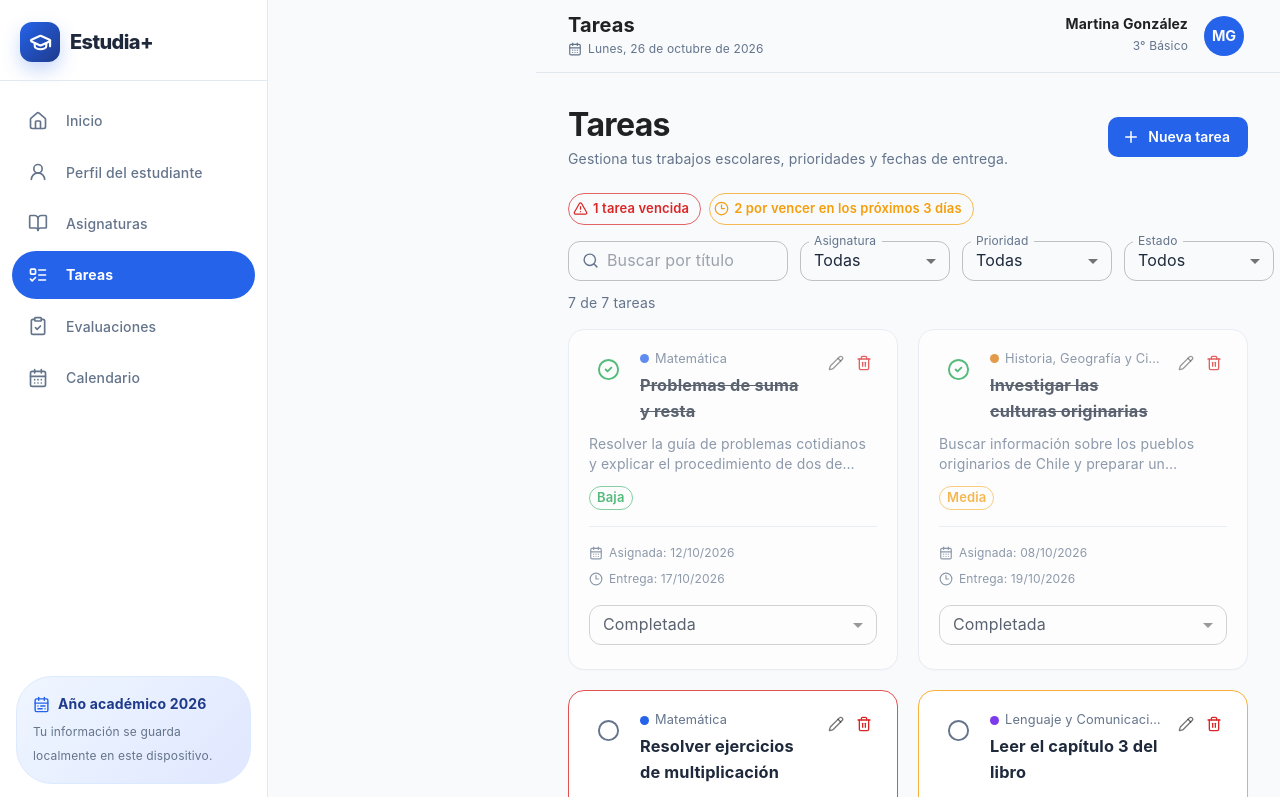
Scenario: gestión de tareas › permite marcar una tarea como completada y editarla
This screenshot has width=1280, height=797.
Click the button named "Marcar Leer el capítulo 3 del libro como completada" at (958, 730), box [939,711,978,750]
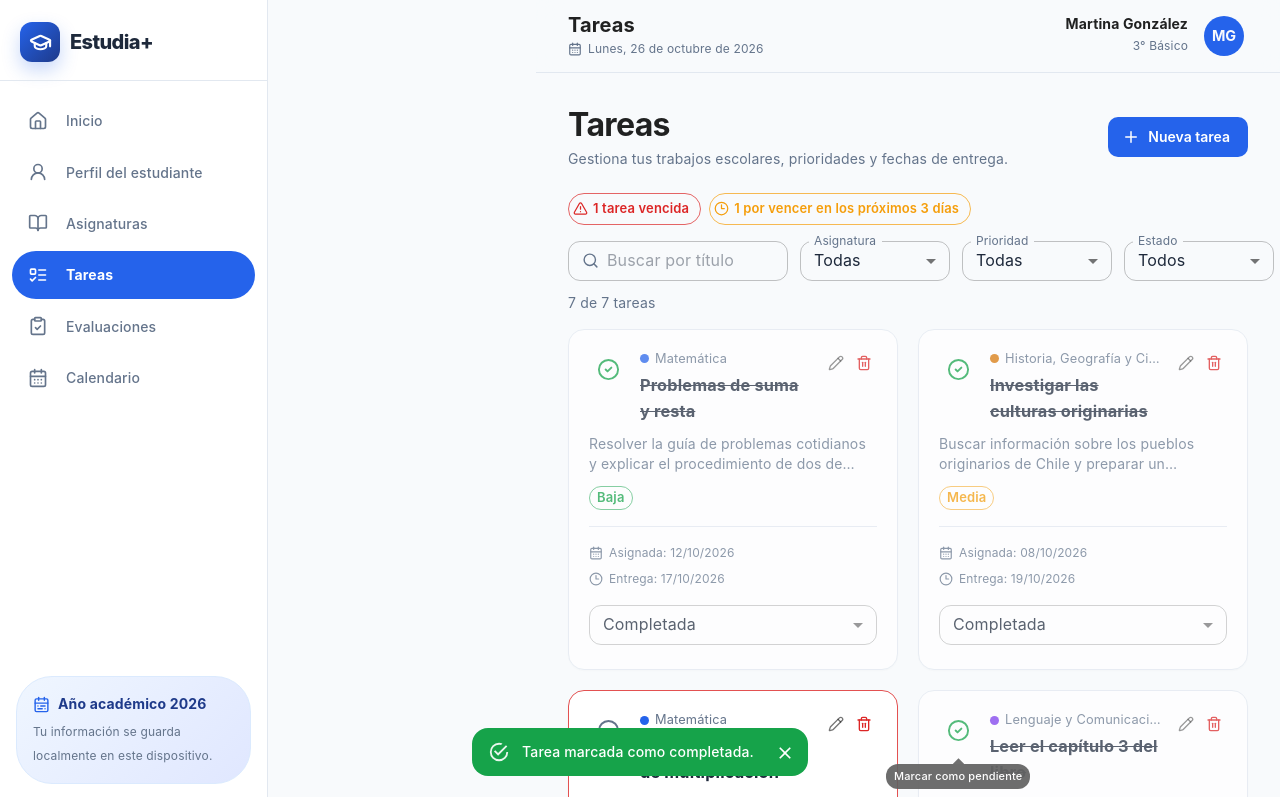
Click the button named "Editar Leer el capítulo 3 del libro" at (1186, 724), box [1173,711,1199,737]
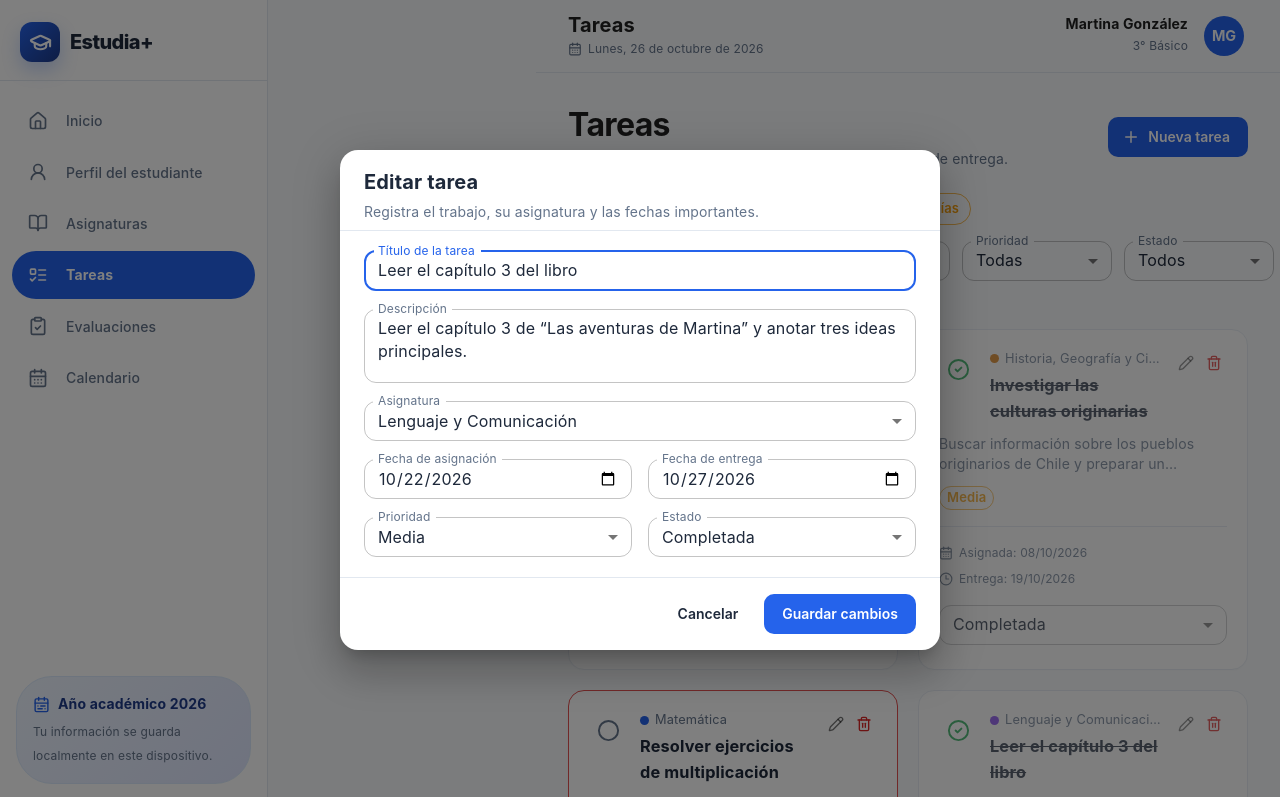
Replace the text in the field labelled "Título de la tarea" with "Leer el capítulo final del libro" at (640, 271), box [364,251,916,291]
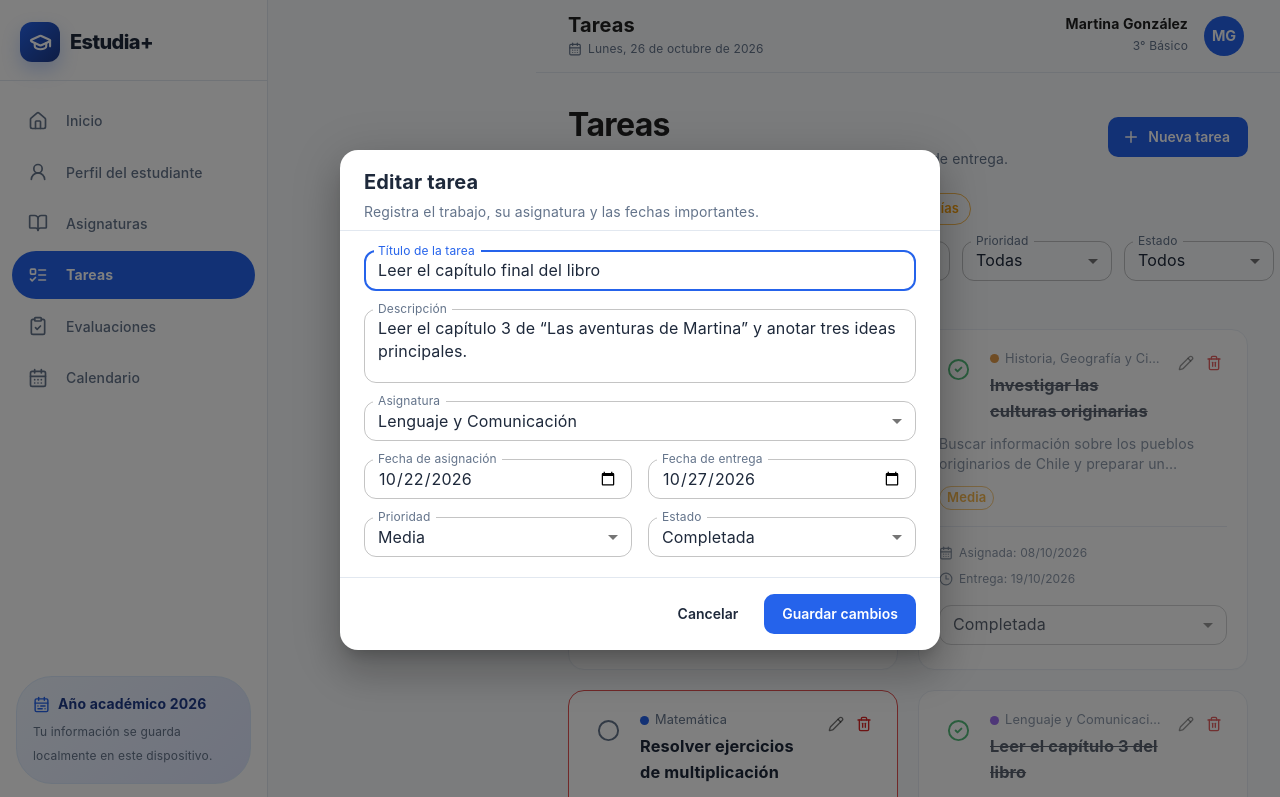
Click the button "Guardar cambios" at (840, 614), box [764,594,916,634]
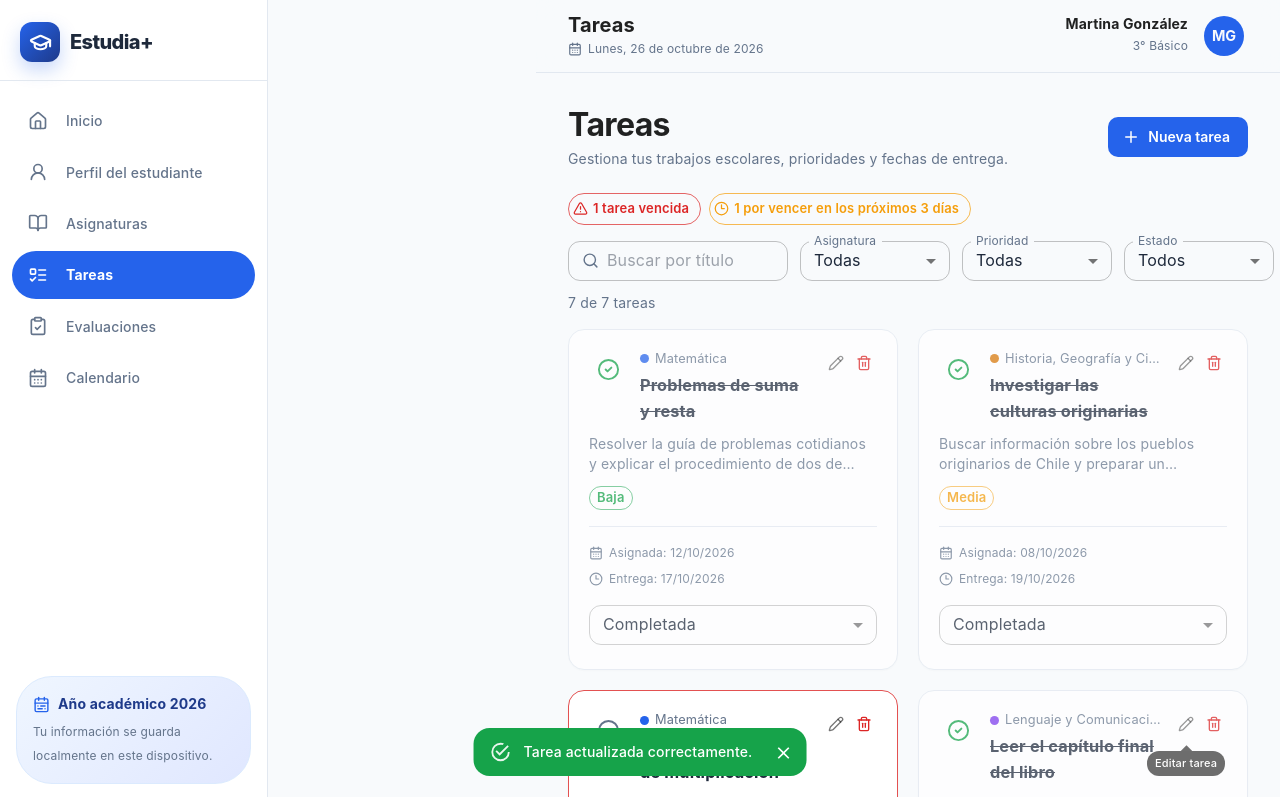
Now the heading "Leer el capítulo final del libro" is shown, box [990,733,1161,785]
